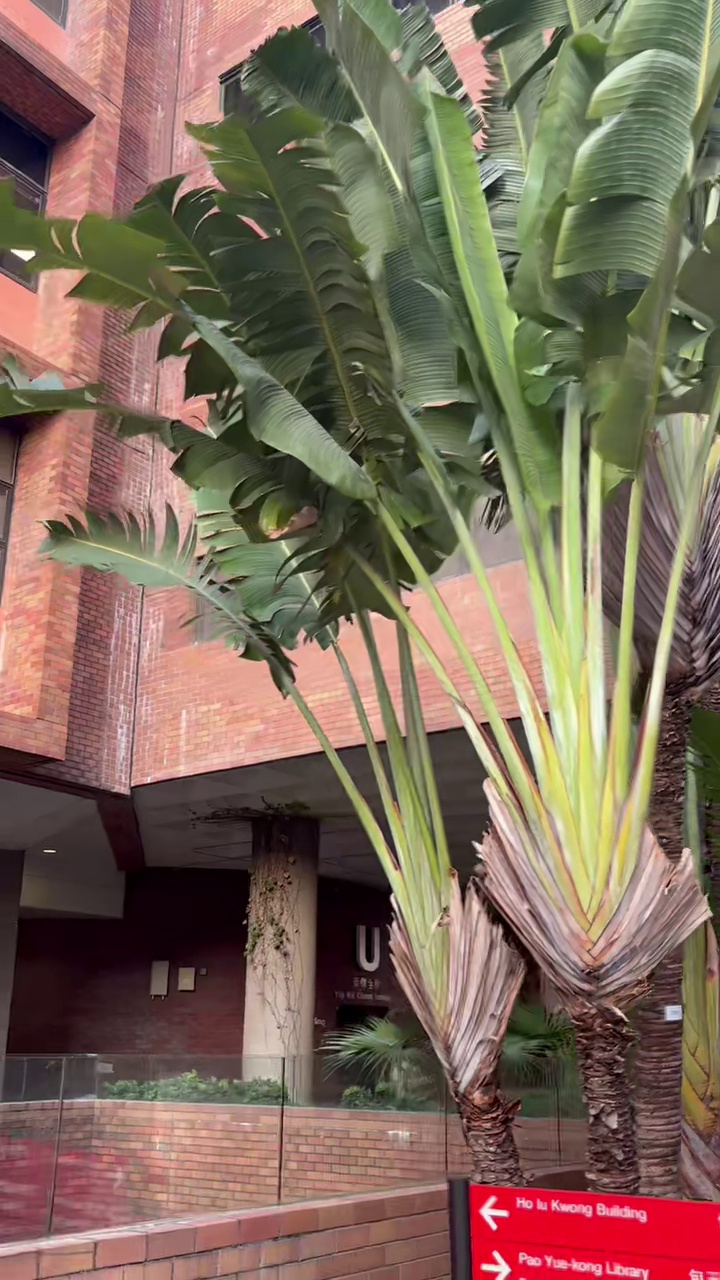Travellers-tree: (0, 0, 719, 1187)
